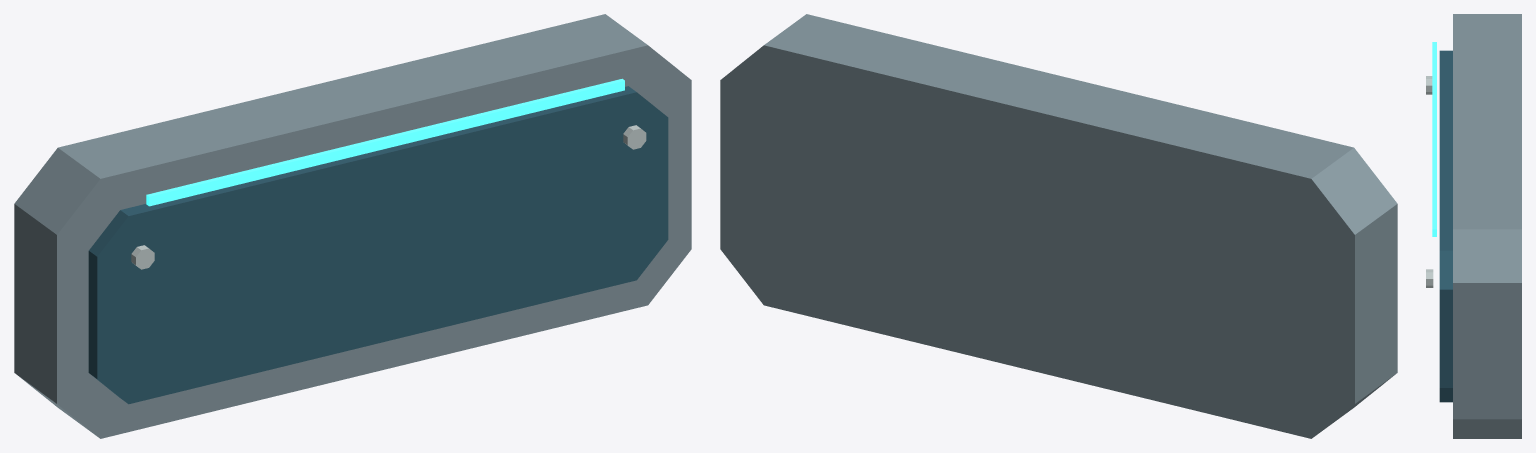
The model's file is City_TrafficSignal_HoverHousing.glb.
The picture shows the model from 3 angles, left to right: view 1: azimuth 30°, elevation 25°; view 2: azimuth 150°, elevation 25°; view 3: azimuth 270°, elevation 25°; orthographic projection. The views are drawn at different scales.
Visible parts, largest first — view 1: City_TrafficSignal_HoverHousing; view 2: City_TrafficSignal_HoverHousing; view 3: City_TrafficSignal_HoverHousing.
Part boxes in pixels (x1=…): City_TrafficSignal_HoverHousing: x1=14, y1=14, x2=691, y2=438; City_TrafficSignal_HoverHousing: x1=720, y1=14, x2=1397, y2=438; City_TrafficSignal_HoverHousing: x1=1426, y1=14, x2=1521, y2=438.
Bounding box in the file's own units: 2.4 × 0.94 × 0.39.
